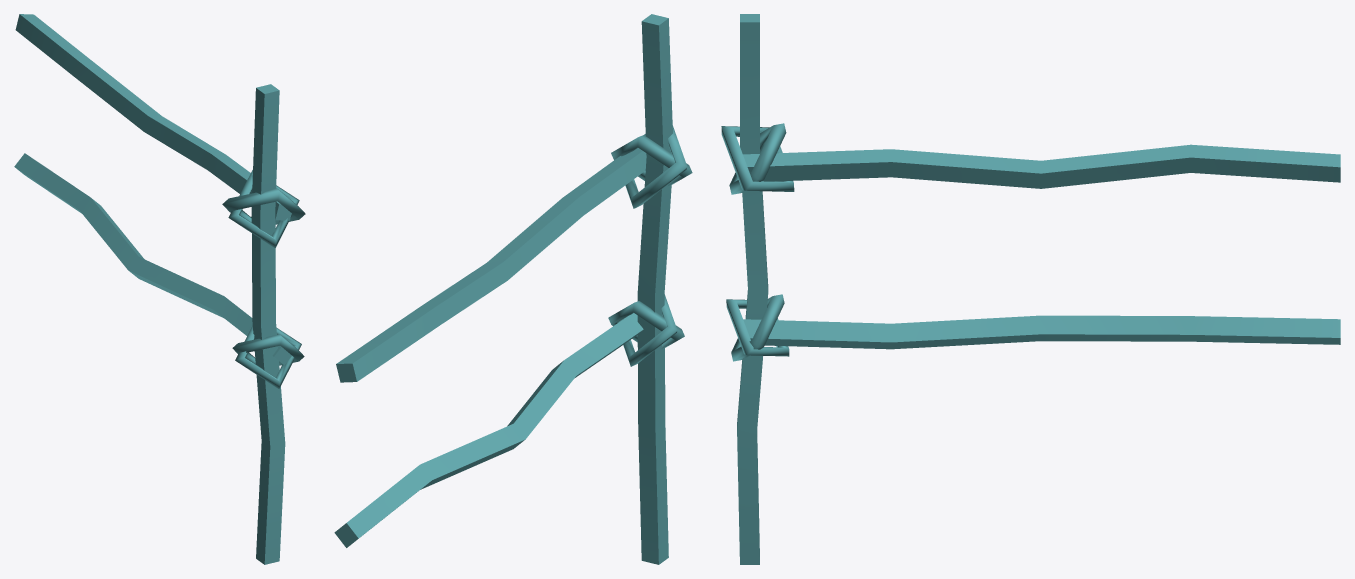
File: saku.fbx
3 views of the same model, side by side, from view 1: azimuth 30°, elevation 25°; view 2: azimuth 150°, elevation 25°; view 3: azimuth 270°, elevation 25° (orthographic). The views are drawn at different scales.
Parts seen in each view (by area): view 1: pCube14, pCube15, pCube16, pTorus3, pTorus4, pTorus1, pTorus2; view 2: pCube14, pCube15, pCube16, pTorus3, pTorus4, pTorus1, pTorus2; view 3: pCube15, pCube16, pCube14, pTorus3, pTorus4, pTorus2, pTorus1.
Part boxes in pixels (left/top/right/bottom): pCube14: left=251, top=84, right=285, bottom=564; pCube15: left=15, top=14, right=291, bottom=220; pCube16: left=14, top=153, right=291, bottom=365; pTorus3: left=222, top=188, right=305, bottom=224; pTorus4: left=228, top=170, right=299, bottom=248; pTorus1: left=235, top=326, right=301, bottom=388; pTorus2: left=232, top=334, right=304, bottom=365; pCube14: left=637, top=14, right=672, bottom=564; pCube15: left=336, top=148, right=646, bottom=382; pCube16: left=334, top=313, right=643, bottom=547; pTorus3: left=625, top=125, right=687, bottom=208; pTorus4: left=611, top=135, right=692, bottom=185; pTorus1: left=608, top=301, right=684, bottom=348; pTorus2: left=623, top=294, right=677, bottom=366; pCube15: left=743, top=144, right=1340, bottom=188; pCube16: left=743, top=315, right=1340, bottom=349; pCube14: left=737, top=14, right=768, bottom=564; pTorus3: left=721, top=126, right=794, bottom=191; pTorus4: left=729, top=123, right=786, bottom=194; pTorus2: left=726, top=299, right=789, bottom=356; pTorus1: left=731, top=294, right=784, bottom=361.
Bounding box in the file's own units: 0.2482 × 1.5 × 1.55.
